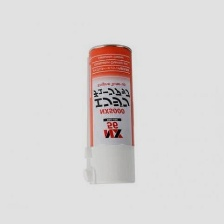aerosol_cans: (80, 40, 138, 188)
